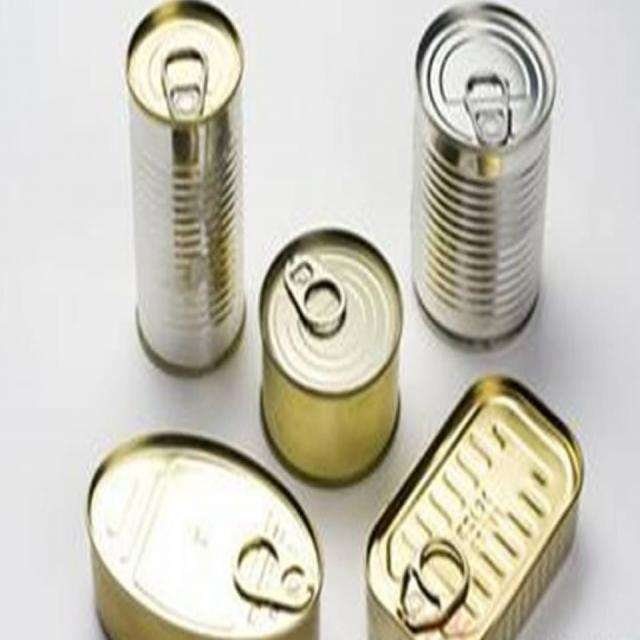Dry: (363, 371, 587, 640), (408, 0, 560, 345), (86, 428, 325, 640), (122, 0, 248, 380), (257, 221, 404, 492)
